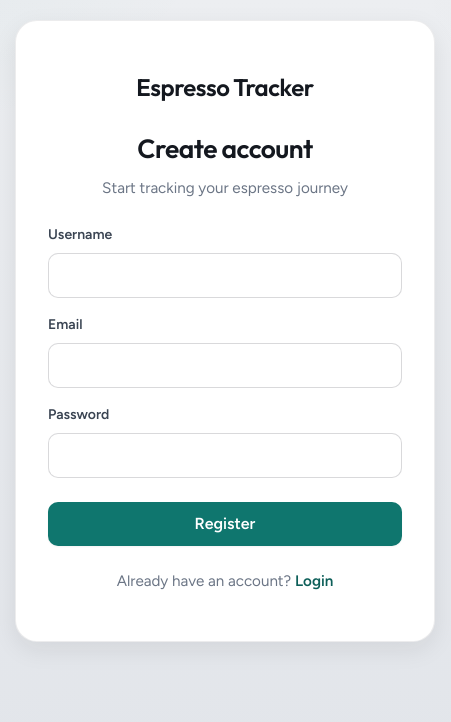
Test: Register › should display error message on registration failure
The image size is (451, 722).
Type "existinguser" into the field labelled "Username" at (225, 275), box [48,253,402,298]
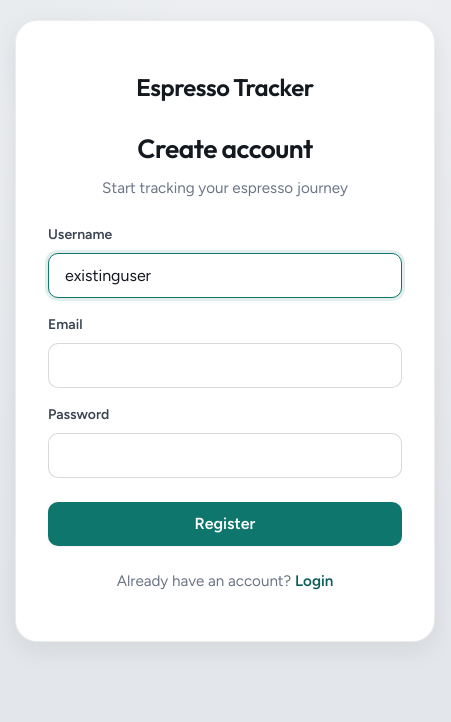
Type "existing@example.com" into the field labelled "Email" at (225, 365), box [48,343,402,388]
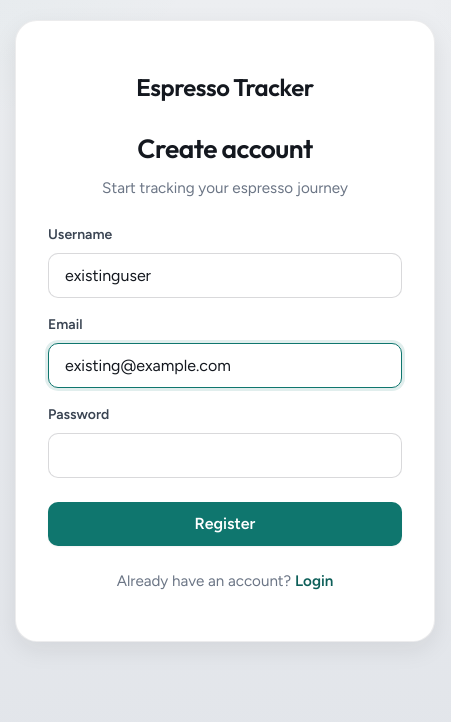
Type "password123" into the password field labelled "Password" at (225, 455), box [48,433,402,478]
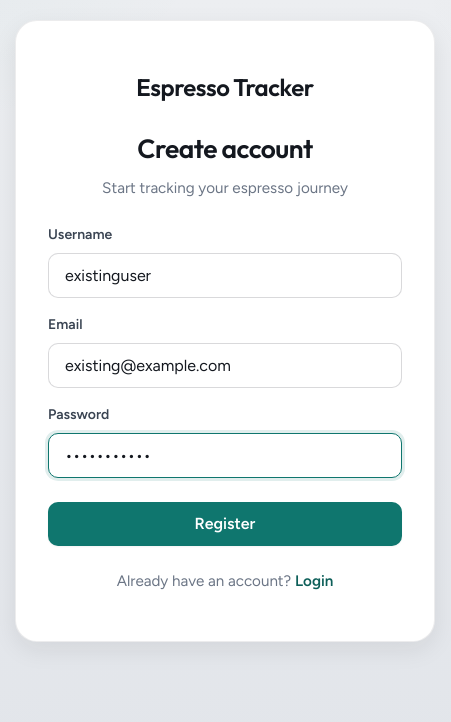
Click the button "Register" at (225, 524), box [48,502,402,546]
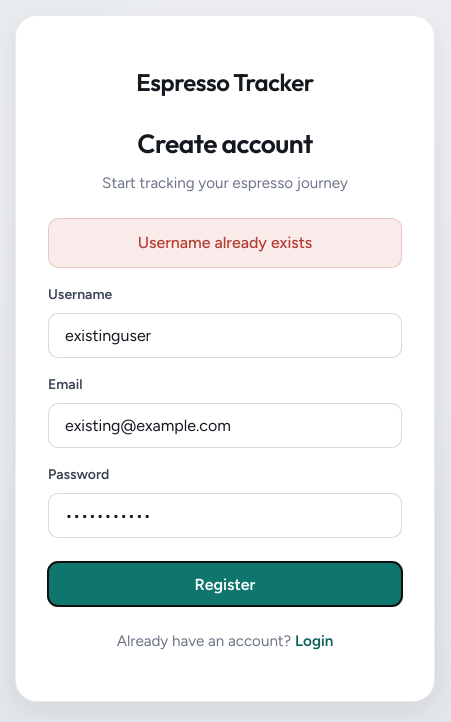
Expected: the text "Username already exists" is shown, [48,218,402,268]
